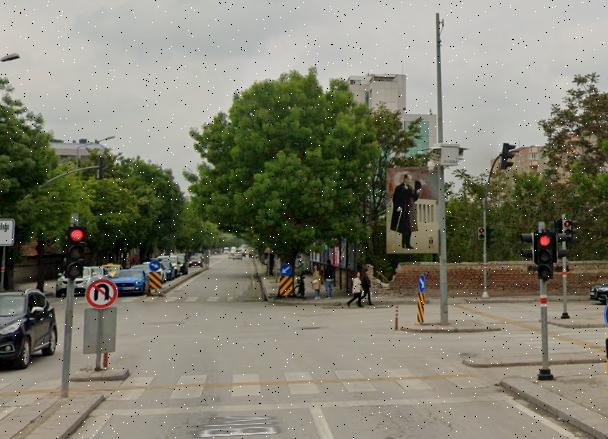redlight: (66, 226, 85, 278), (538, 234, 553, 278)
